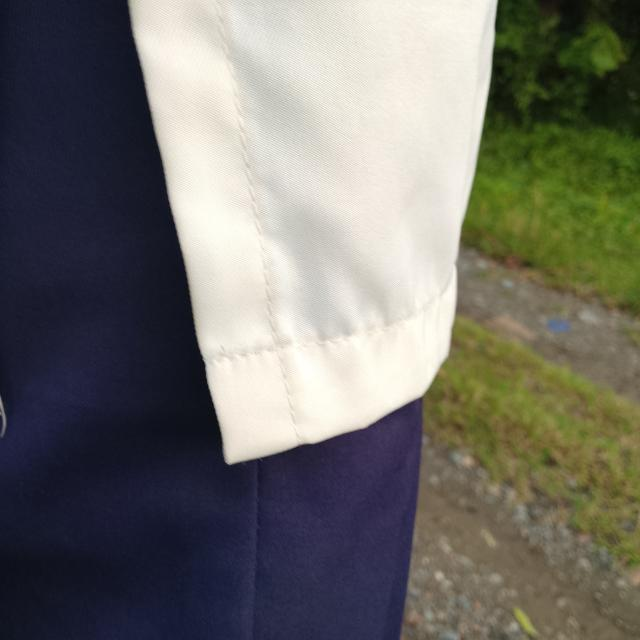education_male_uniform: (0, 0, 422, 597)
